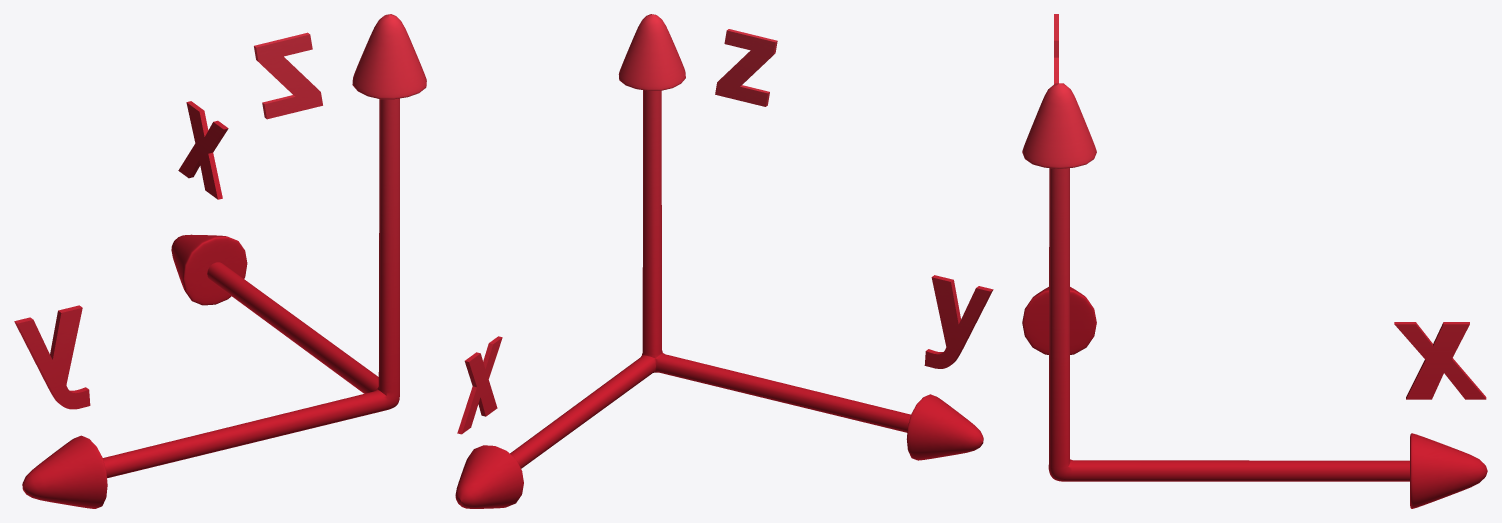
The model's file is AxisMini_Origin_red.fbx.
The picture shows the model from 3 angles, left to right: view 1: azimuth 30°, elevation 25°; view 2: azimuth 150°, elevation 25°; view 3: azimuth 270°, elevation 25°; orthographic projection. The views are drawn at different scales.
Visible parts, largest first — view 1: AxisMini_Origin_red; view 2: AxisMini_Origin_red; view 3: AxisMini_Origin_red.
Boxes of the visible parts, left/top/right/bottom form: AxisMini_Origin_red: left=14, top=14, right=426, bottom=508; AxisMini_Origin_red: left=455, top=14, right=993, bottom=508; AxisMini_Origin_red: left=1022, top=14, right=1487, bottom=508.
Size of the model in its own units: 19.79 by 19.5 by 19.41.
